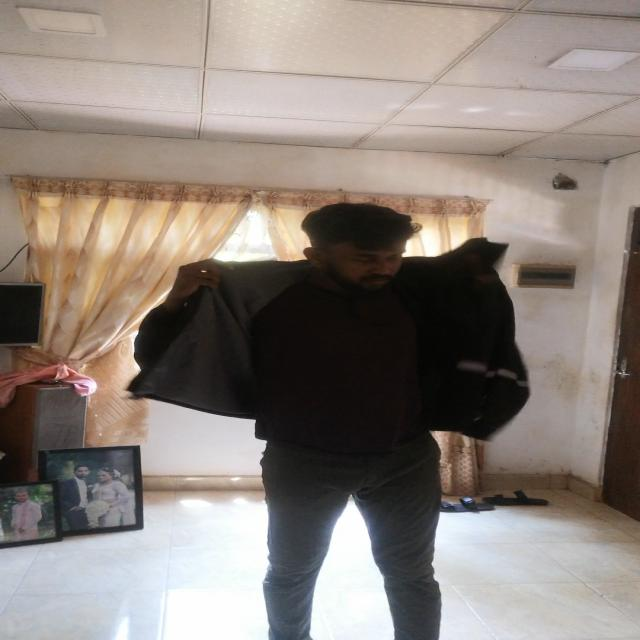Jacket_Wearer: (144, 244, 545, 453)
Person: (140, 197, 530, 634)
